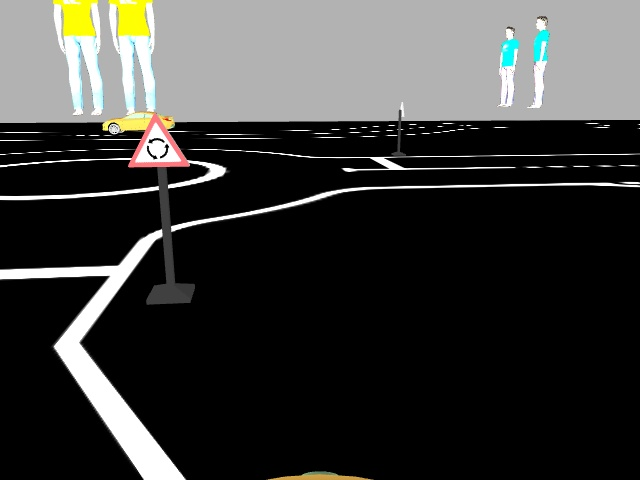Roundabout: (125, 113, 192, 169)
